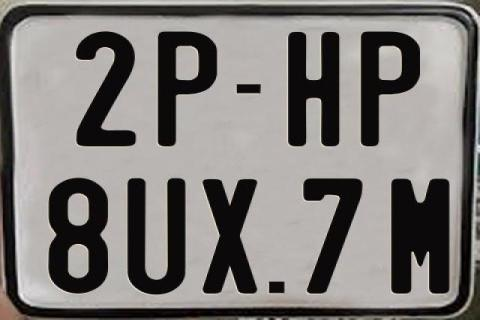0: (74, 29, 136, 147), (300, 178, 360, 298), (47, 177, 107, 295)
H: (288, 29, 344, 149)
M: (391, 178, 456, 294)
P: (155, 31, 220, 150), (360, 29, 423, 147)
U: (126, 178, 190, 298)
X: (200, 178, 260, 296)
